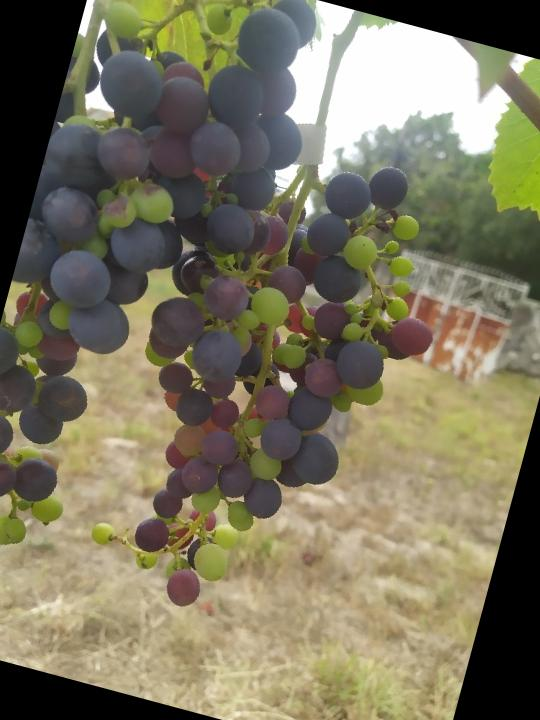grape: (76, 110, 479, 656), (0, 0, 342, 596)
